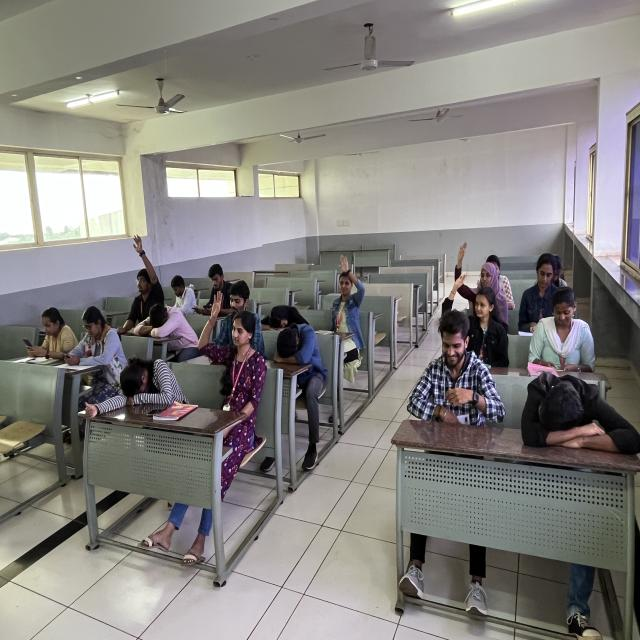Hand Rising: (193, 290, 266, 468), (442, 274, 522, 356), (443, 222, 511, 310), (108, 224, 164, 321), (328, 247, 370, 354)
Sleeping: (516, 362, 638, 472), (74, 338, 182, 410), (269, 311, 325, 388), (127, 292, 194, 347)
Using Phone: (521, 277, 607, 369), (58, 295, 126, 380), (11, 296, 78, 368), (192, 246, 240, 316)
